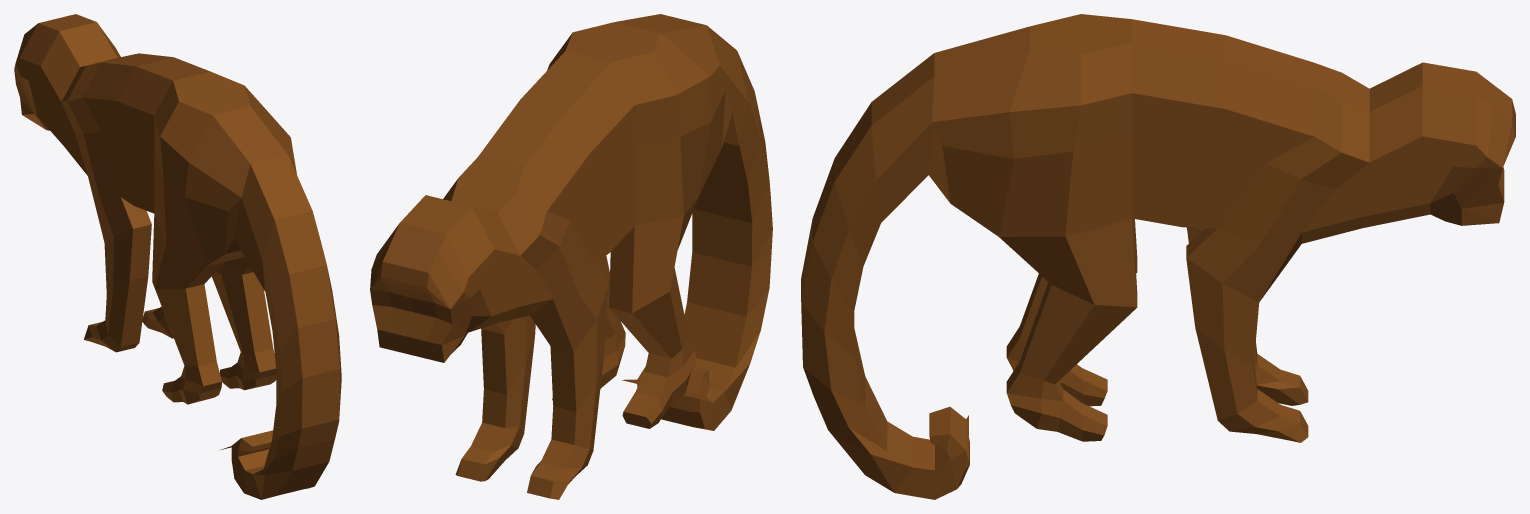
The model's file is lowpolymonkey.fbx.
3 renders of one model, left to right at view 1: azimuth 30°, elevation 25°; view 2: azimuth 150°, elevation 25°; view 3: azimuth 270°, elevation 25°, orthographic. The views are drawn at different scales.
Parts seen in each view (by area): view 1: monkey; view 2: monkey; view 3: monkey.
Boxes of the visible parts, bbox=[...] form: monkey: bbox=[14, 14, 341, 499]; monkey: bbox=[370, 14, 772, 499]; monkey: bbox=[801, 14, 1515, 499].
Bounding box in the file's own units: 110 × 350 × 499.
